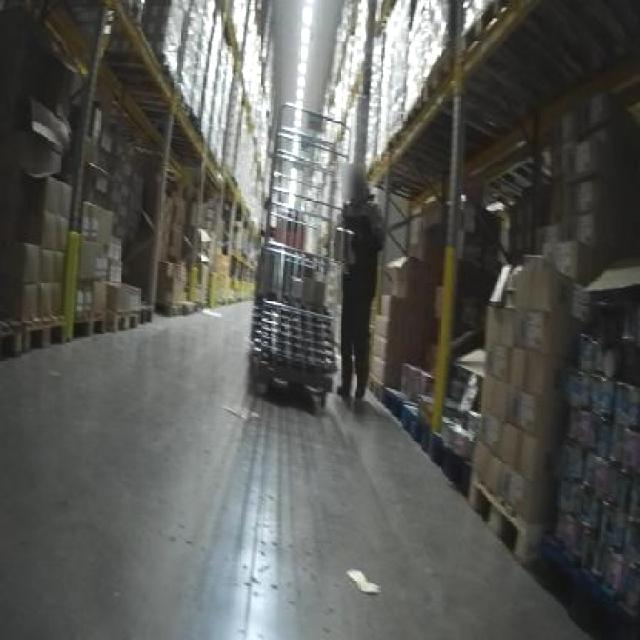floor: (0, 300, 586, 637)
pallets: (532, 258, 637, 637), (468, 254, 565, 558)
